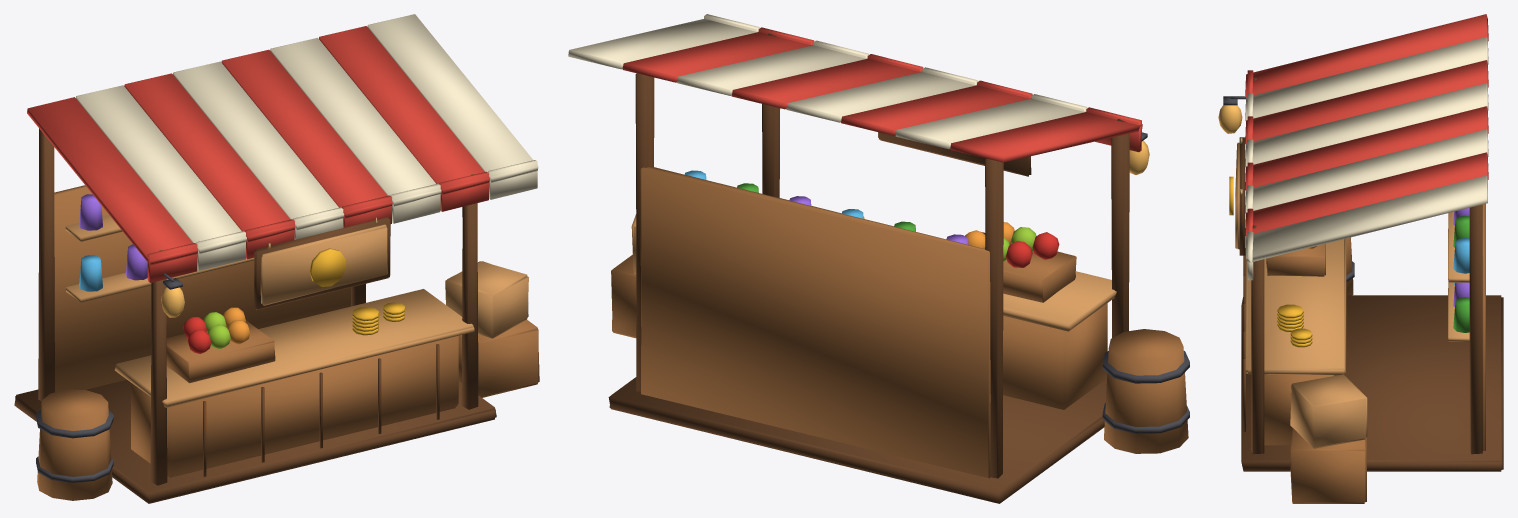
Rendered from mercado.glb.
The picture shows the model from 3 angles, left to right: view 1: azimuth 30°, elevation 25°; view 2: azimuth 150°, elevation 25°; view 3: azimuth 270°, elevation 25°; orthographic projection. The views are drawn at different scales.
Parts seen in each view (by area): view 1: Mercado; view 2: Mercado; view 3: Mercado.
Part boxes in pixels (x1,y1,x2,y2): Mercado: [14, 14, 539, 503]; Mercado: [568, 14, 1189, 503]; Mercado: [1218, 14, 1503, 503].
Size of the model in its own units: 5 by 2.98 by 2.61.
